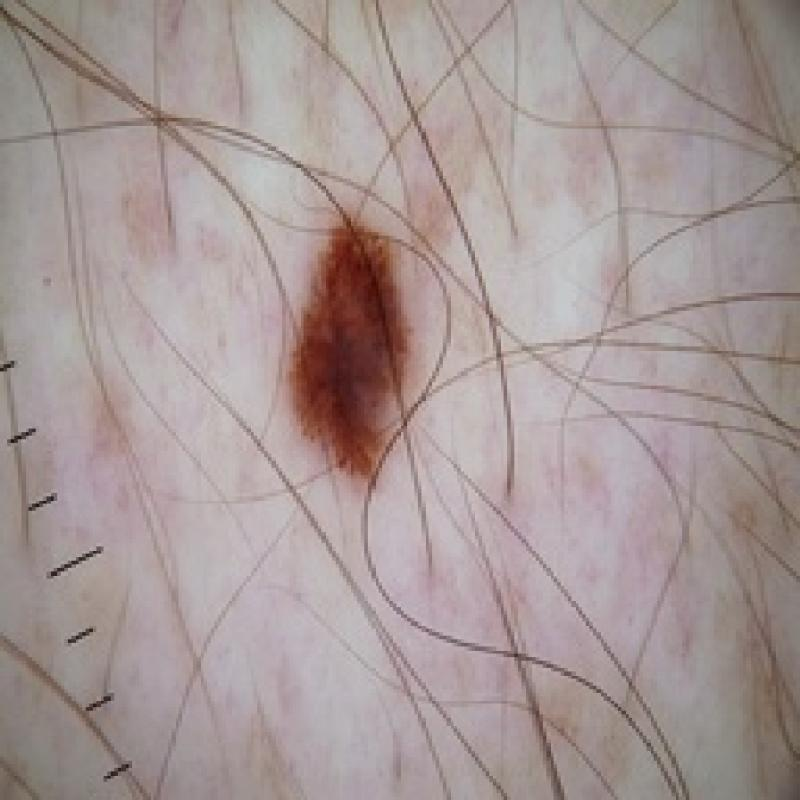malignant: (270, 210, 437, 477)
